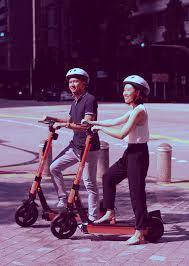helmet: (50, 72, 165, 245), (15, 67, 115, 226)
